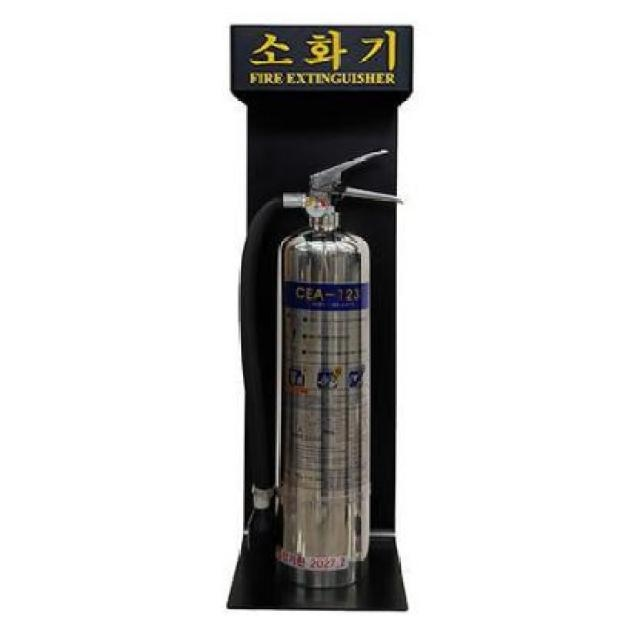fire extinguisher: (238, 150, 404, 585)
